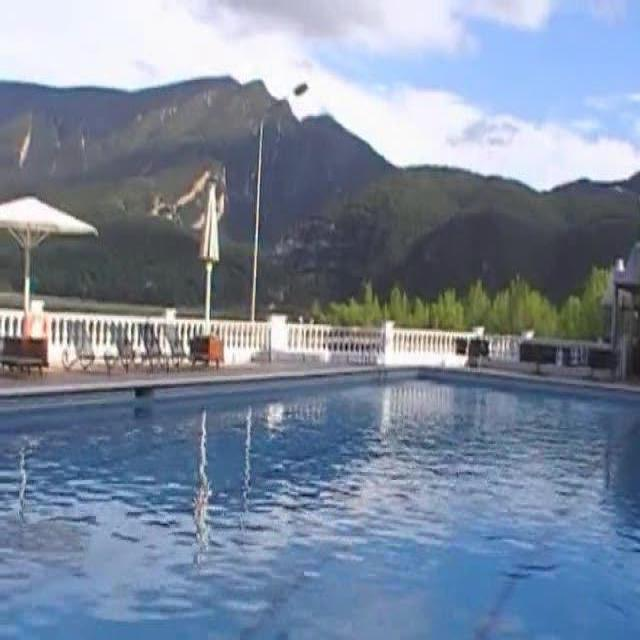other: (45, 298, 474, 370)
